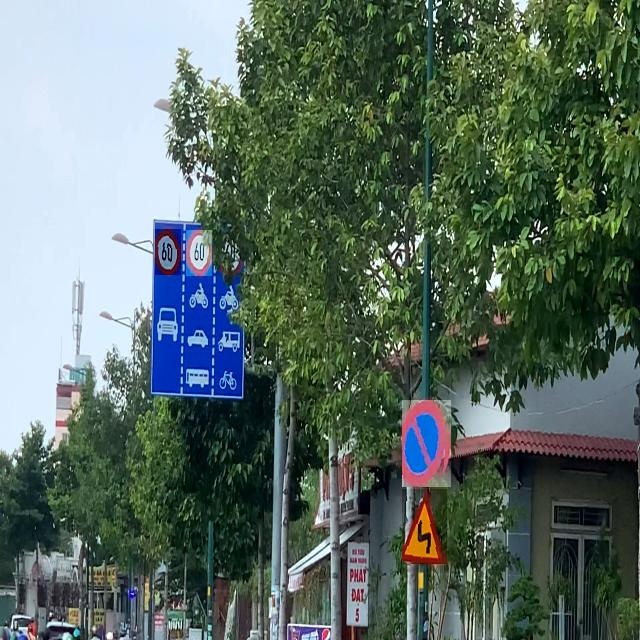bien_nguy_hiem: (402, 400, 451, 487), (402, 489, 447, 564), (186, 230, 212, 276), (156, 229, 182, 275)
